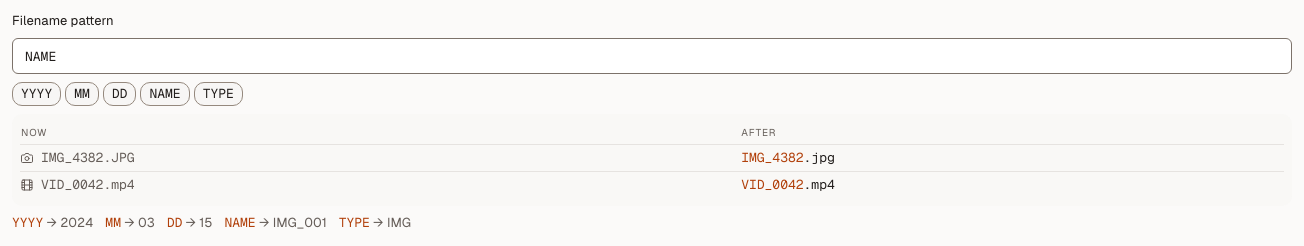
Test: rename preview › previews the pattern being typed, before it is committed
Replace the text in the field showing "NAME" with "YYYY_NAME": (652, 56) [12,38,1292,74]
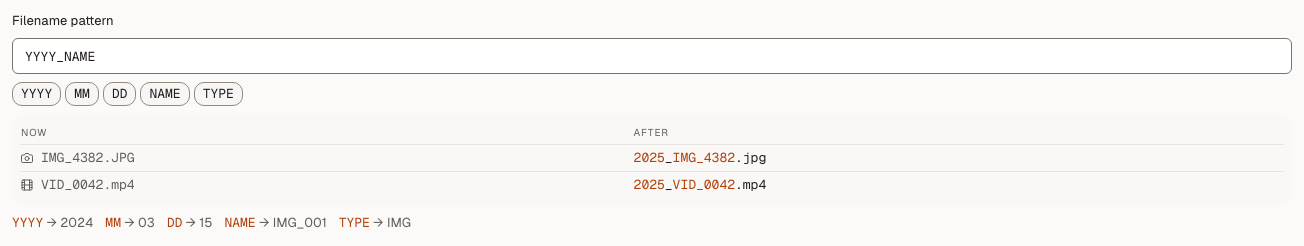
Expected: the text "IMG_4382.JPG" shows "2025_IMG_4382.jpg", [20,144,1284,172]
